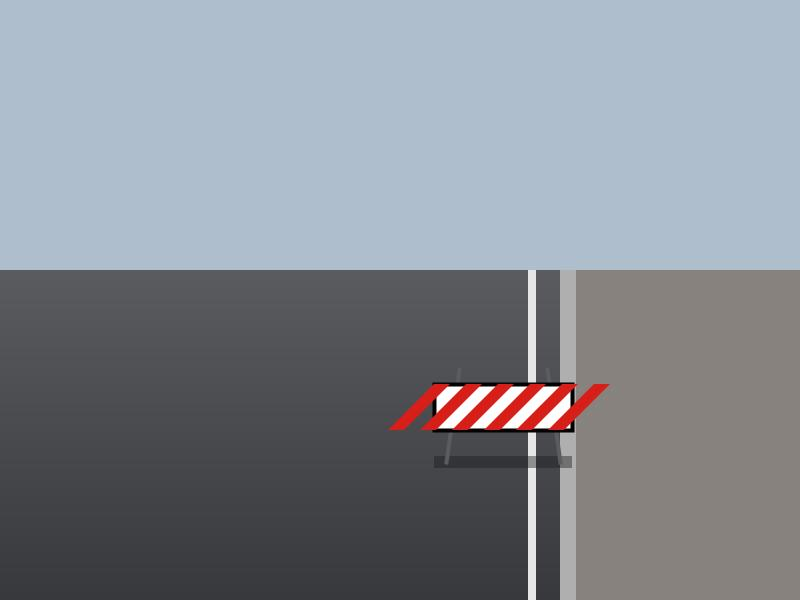ROAD_OBSTACLE: (434, 359, 572, 462)
